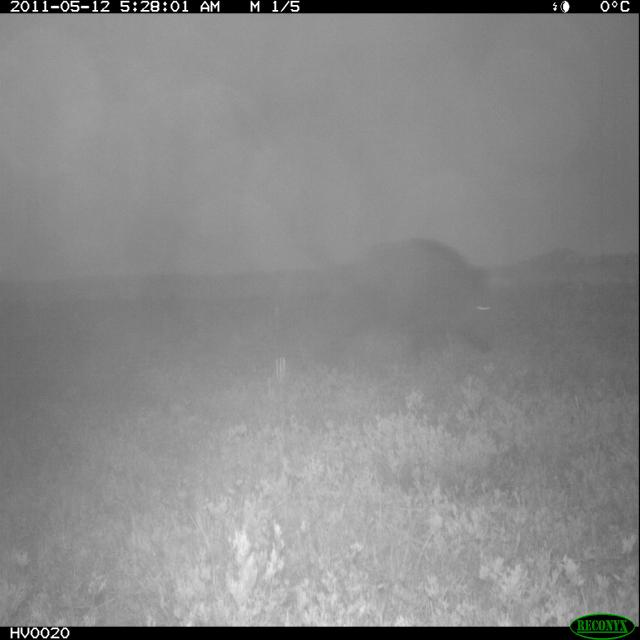boar: (311, 226, 521, 376)
